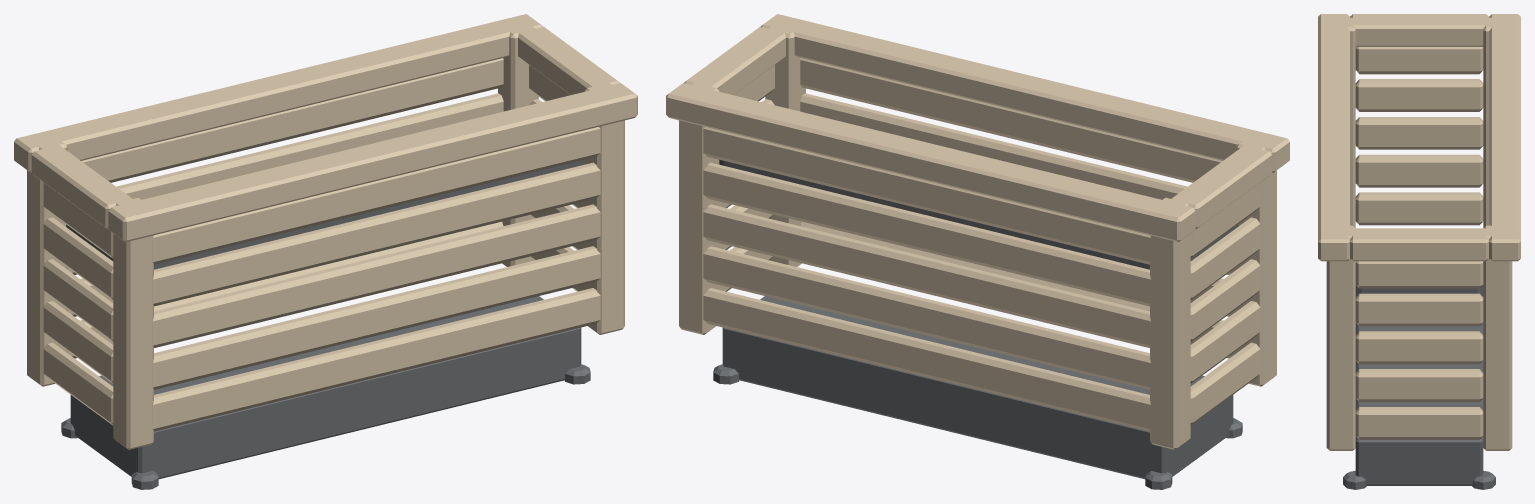
Rendered from clinic-and-veterinary-practice-waiting-planter-e0a73e09__16728.glb.
3 views of the same model, side by side, from view 1: azimuth 30°, elevation 25°; view 2: azimuth 150°, elevation 25°; view 3: azimuth 270°, elevation 25° (orthographic). The views are drawn at different scales.
Parts seen in each view (by area): view 1: waiting-planter; view 2: waiting-planter; view 3: waiting-planter.
Boxes of the visible parts, bbox=[...] form: waiting-planter: bbox=[14, 14, 637, 489]; waiting-planter: bbox=[666, 14, 1289, 489]; waiting-planter: bbox=[1318, 14, 1520, 489].
Size of the model in its own units: 0.93 by 0.5 by 0.35.
